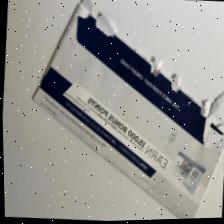paper: (17, 0, 224, 220)
